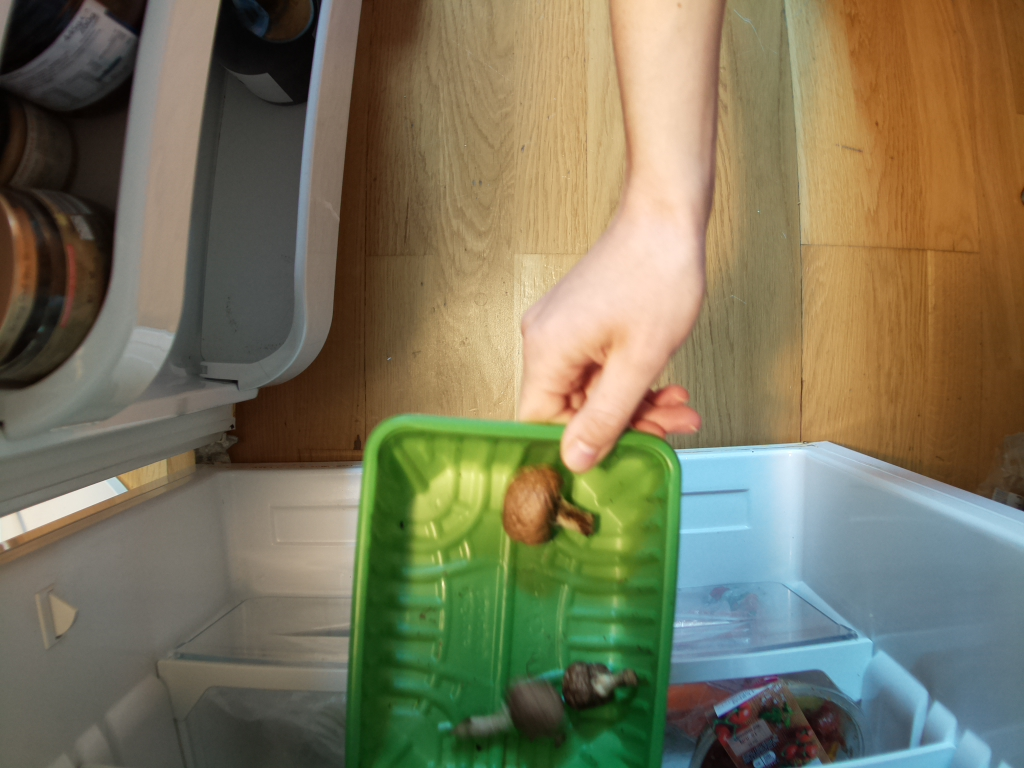mushrooms-bad: (345, 416, 683, 768)
